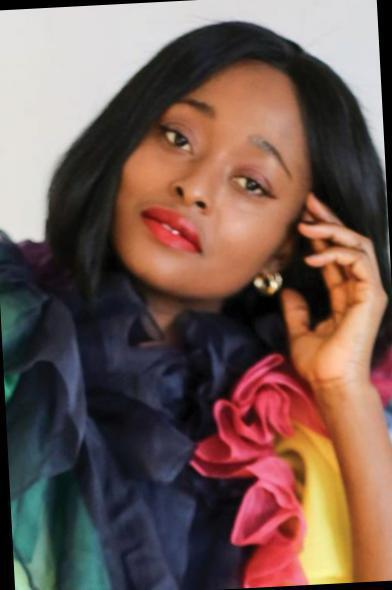Sober: (124, 53, 305, 287)
